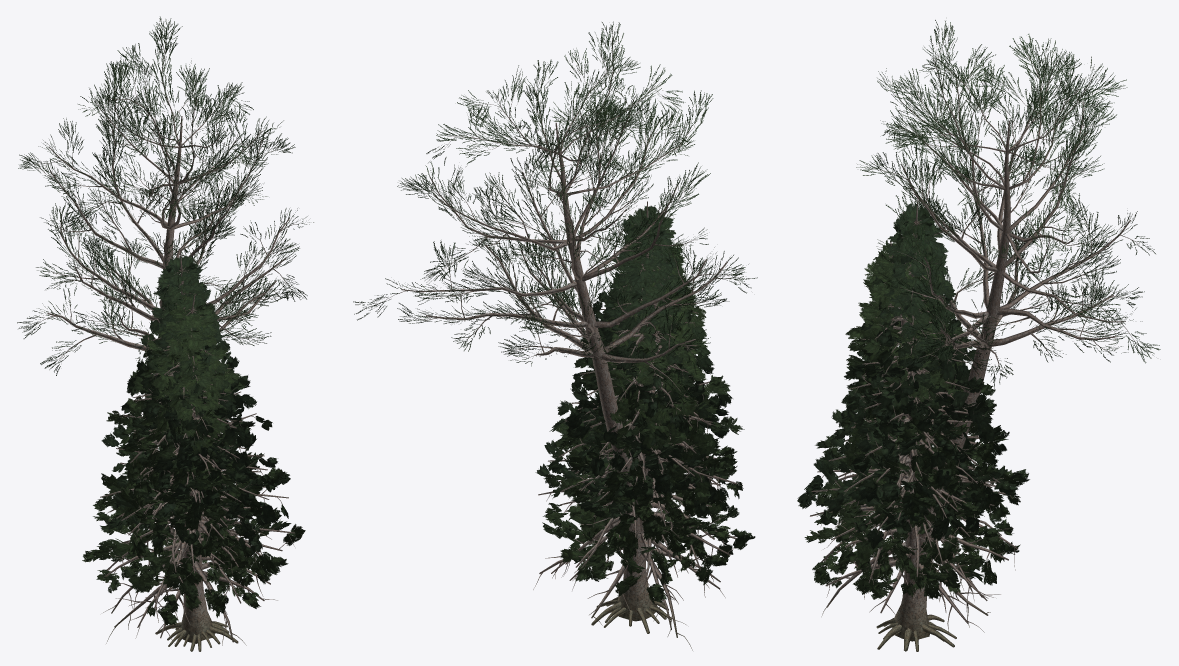
Rendered from env_trees_evergreen.glb.
3 renders of one model, left to right at view 1: azimuth 30°, elevation 25°; view 2: azimuth 150°, elevation 25°; view 3: azimuth 270°, elevation 25°, orthographic. The views are drawn at different scales.
Visible parts, largest first — view 1: CONIFER_WhitePine, CONIFER_Hemlock, CONIFER_RedSpruce; view 2: CONIFER_WhitePine, CONIFER_Hemlock, CONIFER_RedSpruce; view 3: CONIFER_WhitePine, CONIFER_RedSpruce, CONIFER_Hemlock.
Part boxes in pixels (left/top/right/bottom): CONIFER_WhitePine: left=17, top=16, right=313, bottom=651; CONIFER_Hemlock: left=82, top=295, right=305, bottom=651; CONIFER_RedSpruce: left=101, top=250, right=294, bottom=647; CONIFER_WhitePine: left=353, top=21, right=757, bottom=633; CONIFER_Hemlock: left=533, top=239, right=755, bottom=650; CONIFER_RedSpruce: left=535, top=201, right=732, bottom=627; CONIFER_WhitePine: left=856, top=20, right=1160, bottom=651; CONIFER_RedSpruce: left=797, top=199, right=1018, bottom=651; CONIFER_Hemlock: left=804, top=239, right=1029, bottom=646.
Size of the model in its own units: 17.79 by 32.82 by 17.74.
Materials: 4 (4 with a texture image).
